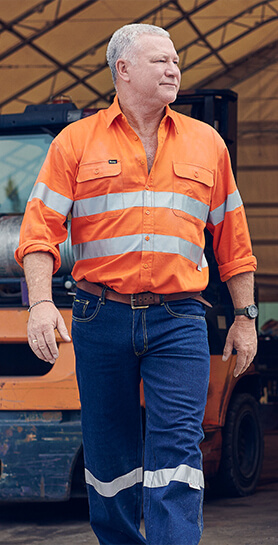noepi: (20, 15, 264, 545)
